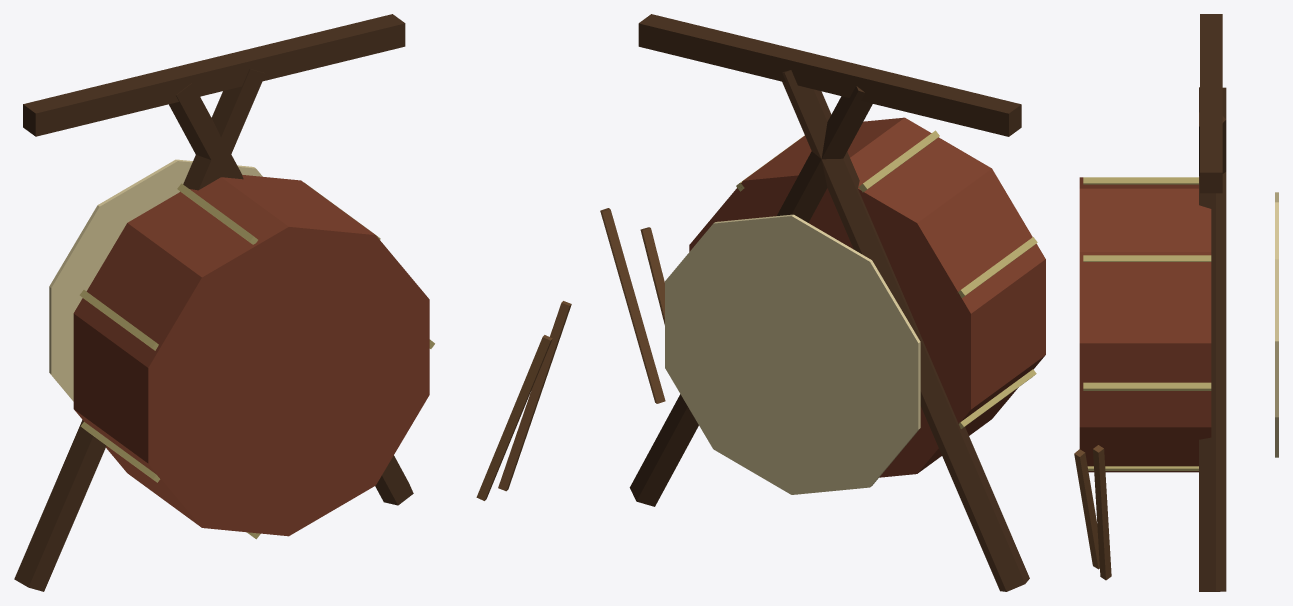
The model's file is prop_market_drum_frame.glb.
3 renders of one model, left to right at view 1: azimuth 30°, elevation 25°; view 2: azimuth 150°, elevation 25°; view 3: azimuth 270°, elevation 25°, orthographic. The views are drawn at different scales.
Visible parts, largest first — view 1: prop_market_drum_frame; view 2: prop_market_drum_frame; view 3: prop_market_drum_frame.
Part boxes in pixels (bbox=[...]): prop_market_drum_frame: bbox=[14, 14, 571, 591]; prop_market_drum_frame: bbox=[600, 14, 1045, 591]; prop_market_drum_frame: bbox=[1074, 14, 1278, 591].
Bounding box in the file's own units: 1.33 × 1.25 × 0.5449.
